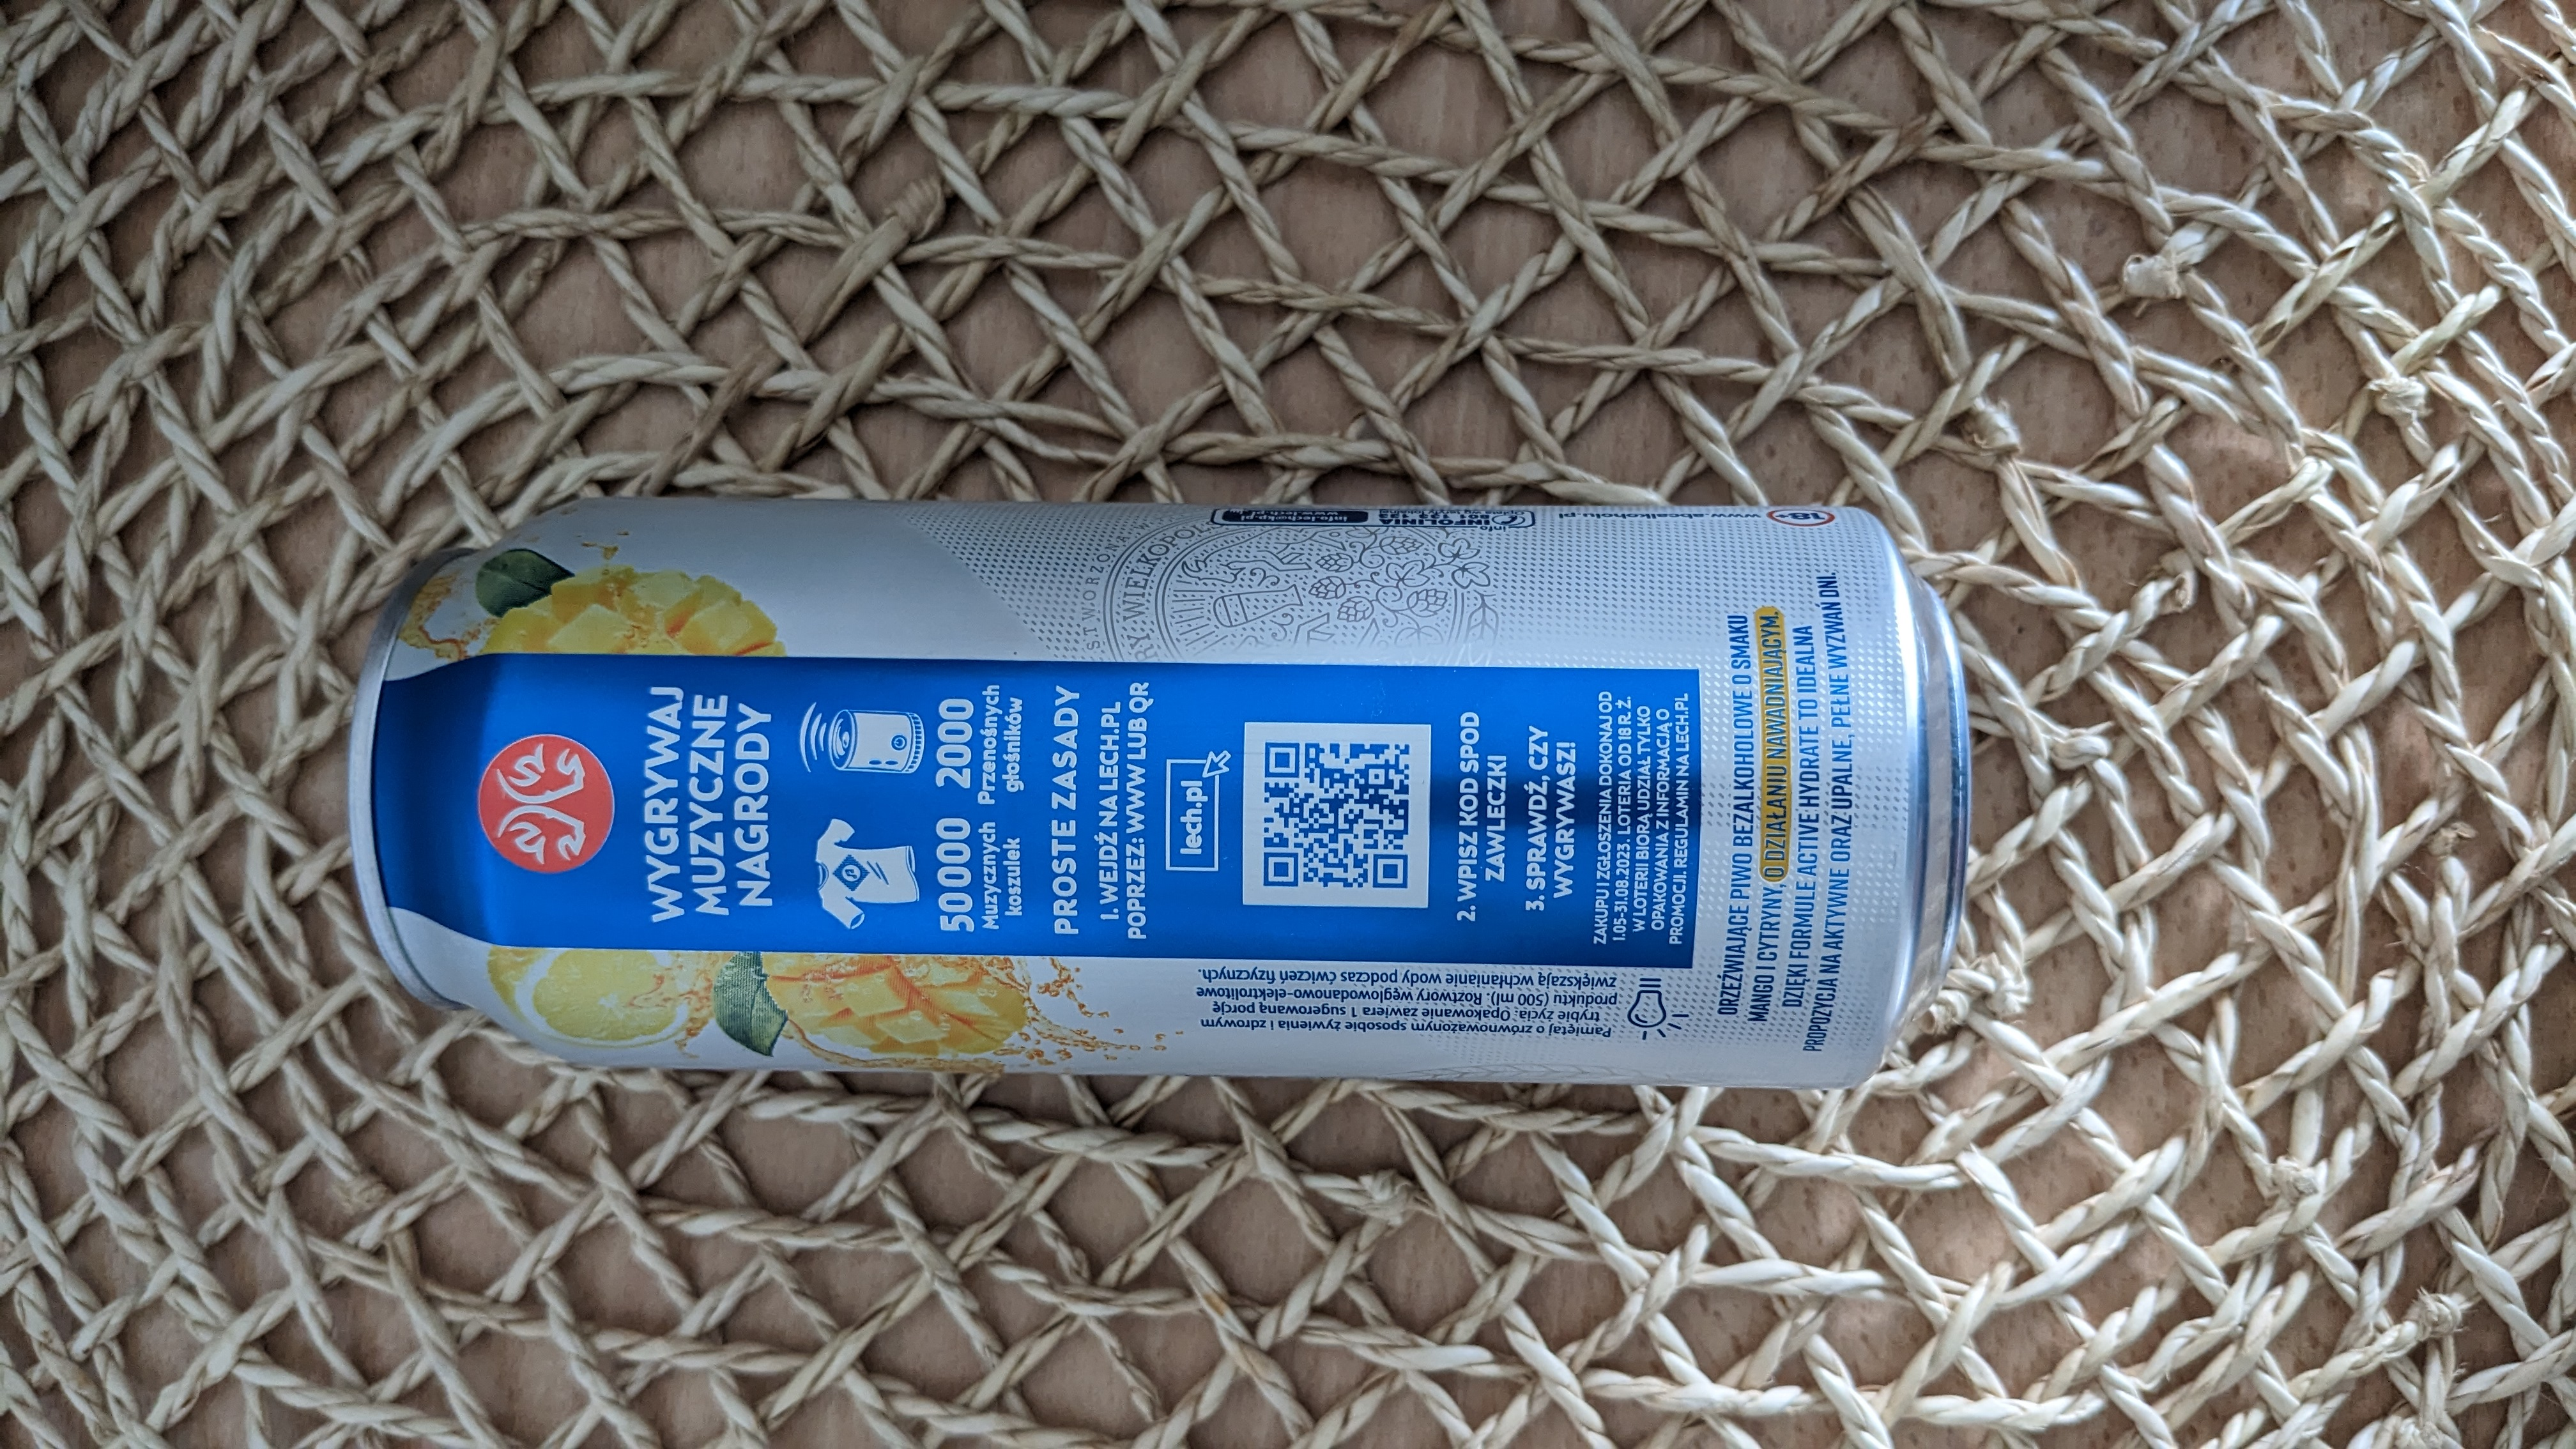lech-active: (285, 474, 2012, 1145)
